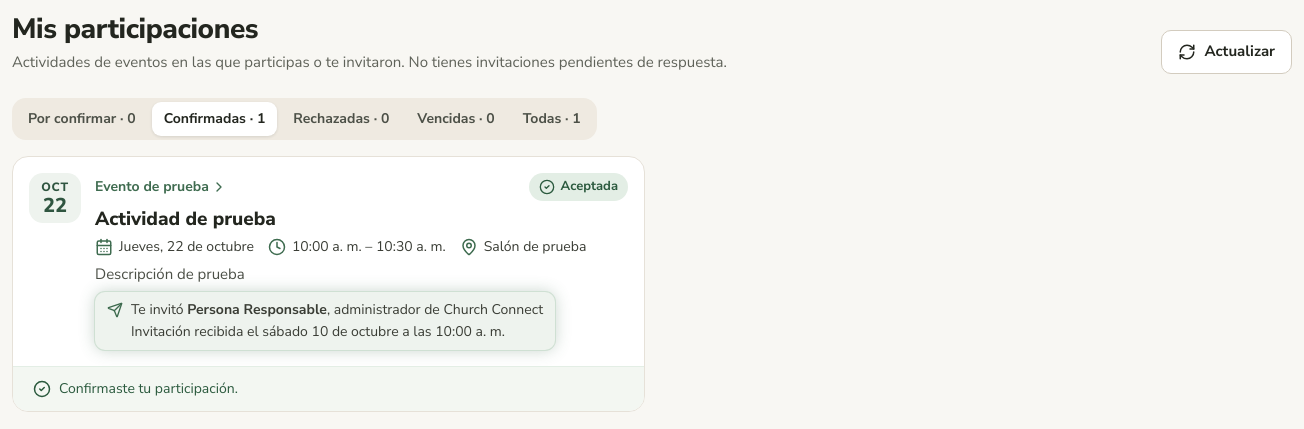
Test case: ParticipationsPage › muestra el estado vacío de la pestaña
The image size is (1304, 429).
Click the button "Por confirmar · 0" at (82, 118), box top-left (16, 102), bottom-right (148, 136)
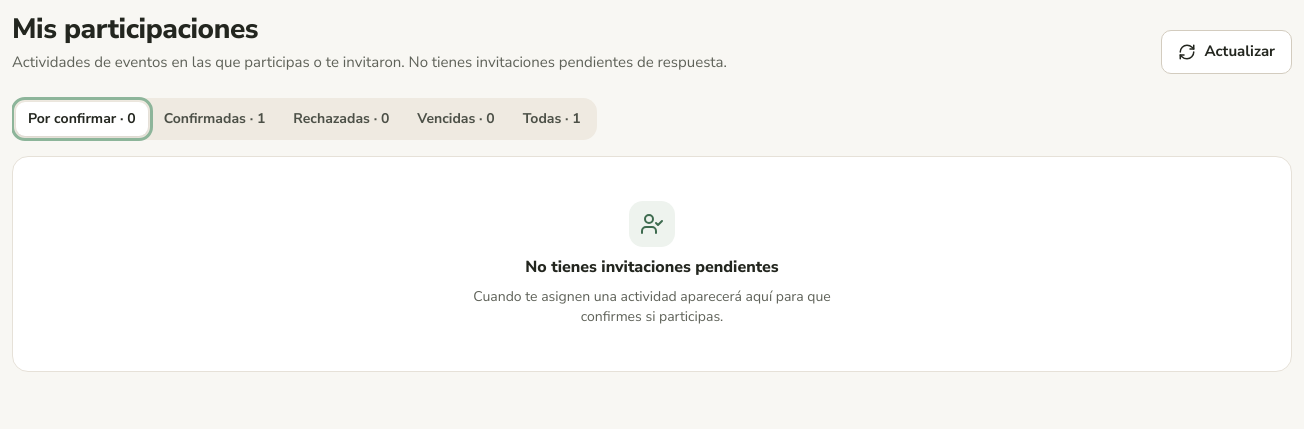
Result: the text "No tienes invitaciones pendientes" is shown at top-left (525, 254), bottom-right (779, 278)
